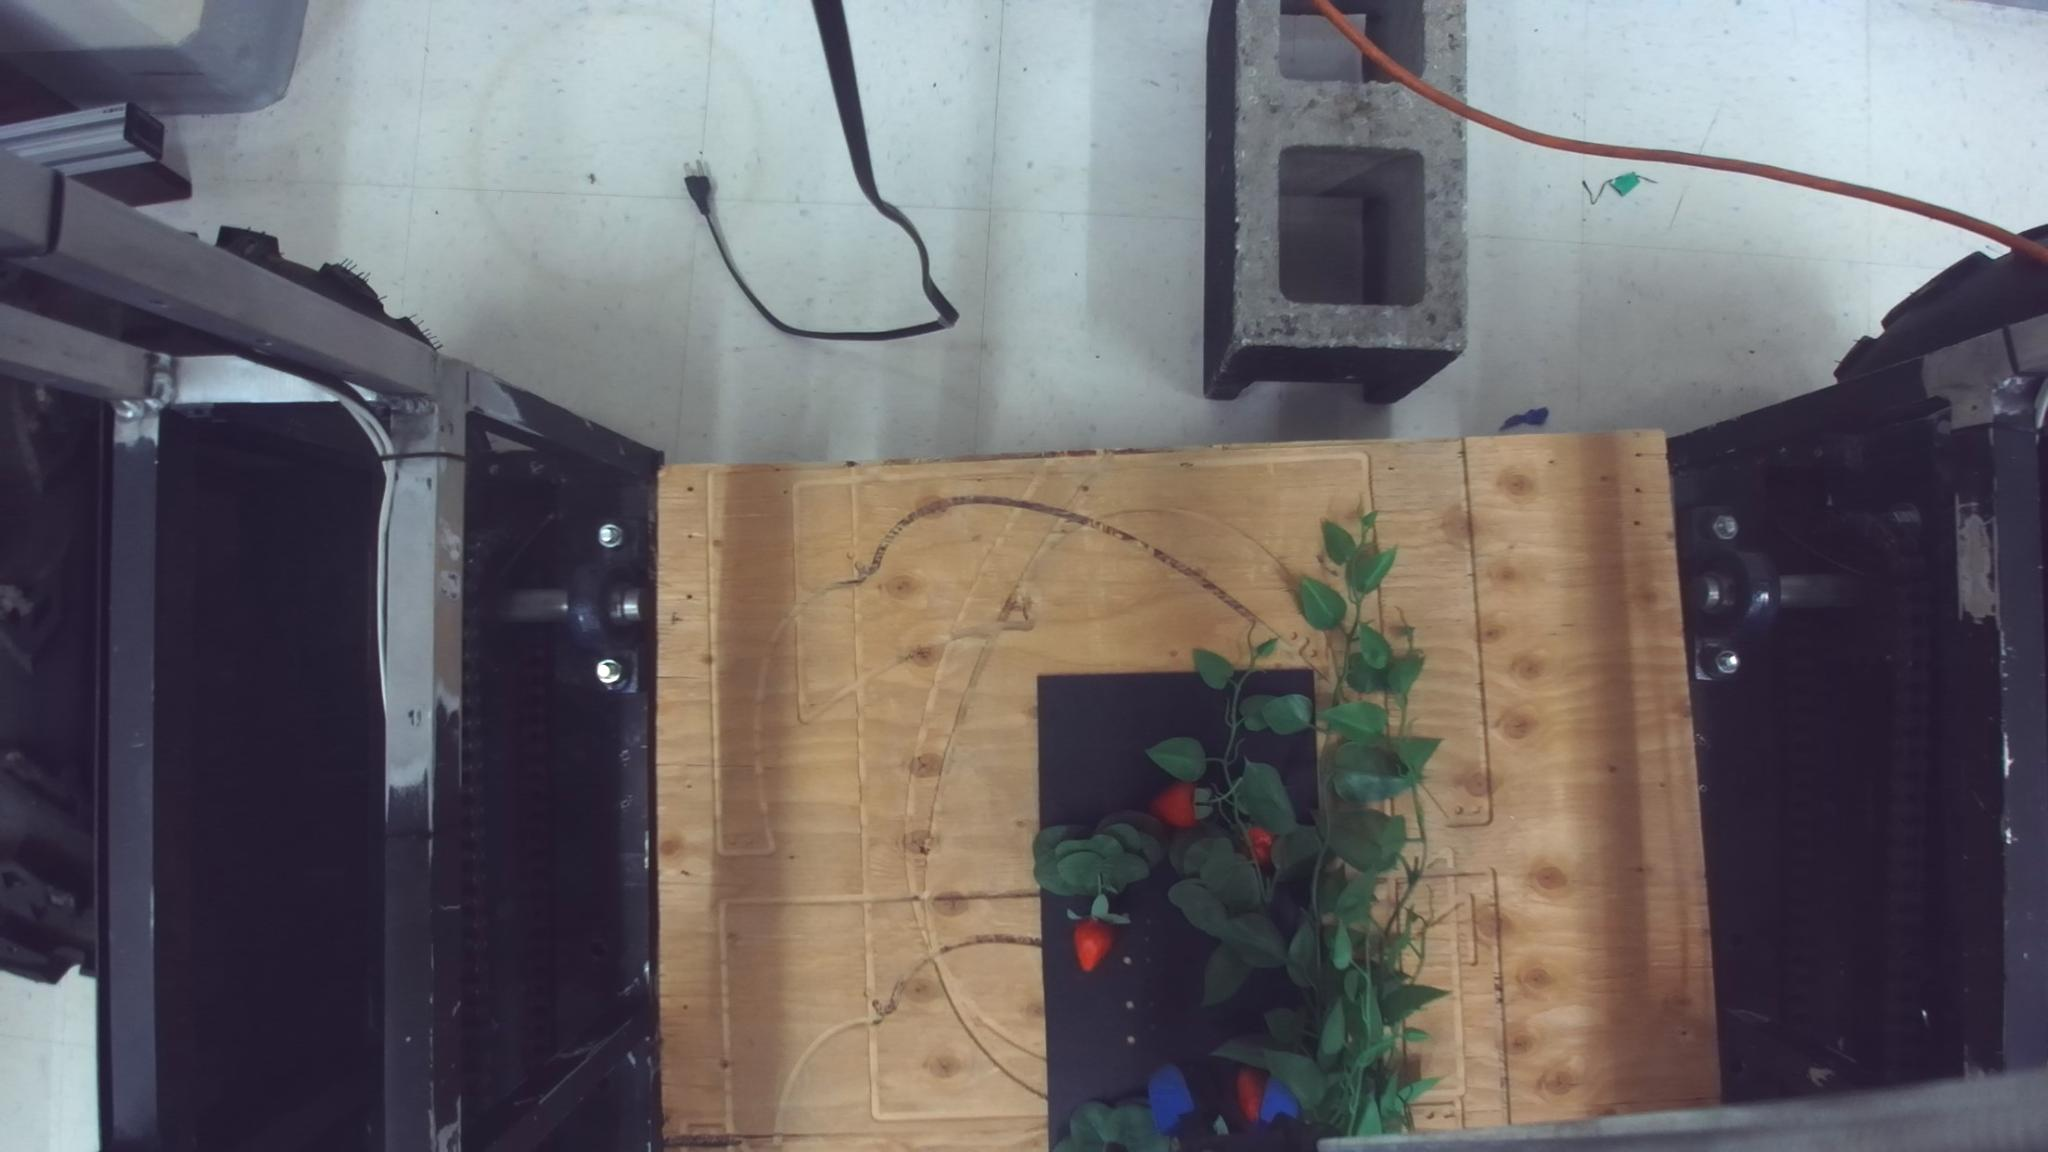strawberry: (1149, 779, 1212, 828), (1070, 916, 1113, 972), (1235, 1063, 1267, 1124), (1243, 823, 1274, 866)
